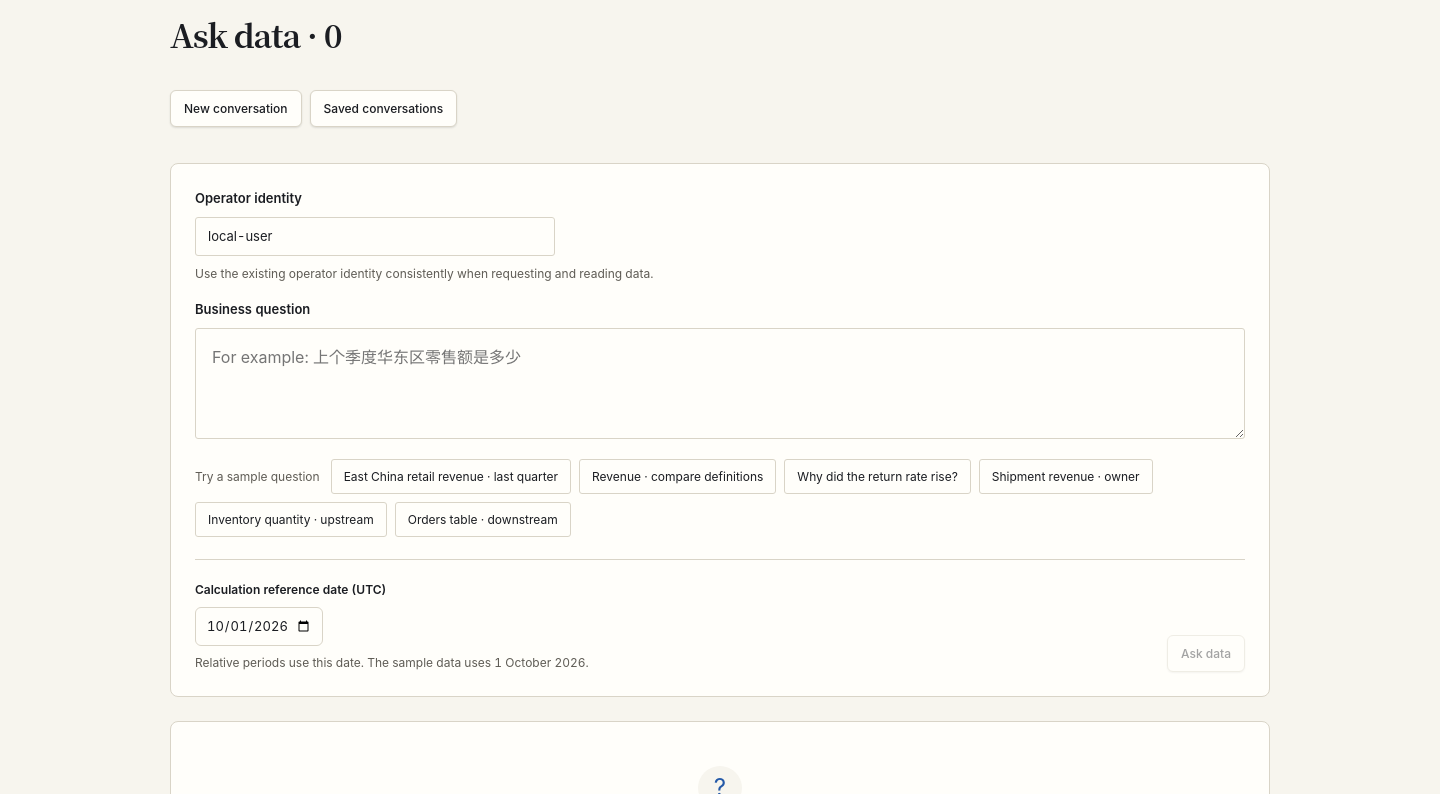
Test: retries the failed operation without silently switching to edited form values
Click the button "East China retail revenue · last quarter" at (451, 476), box [331,458,571,494]
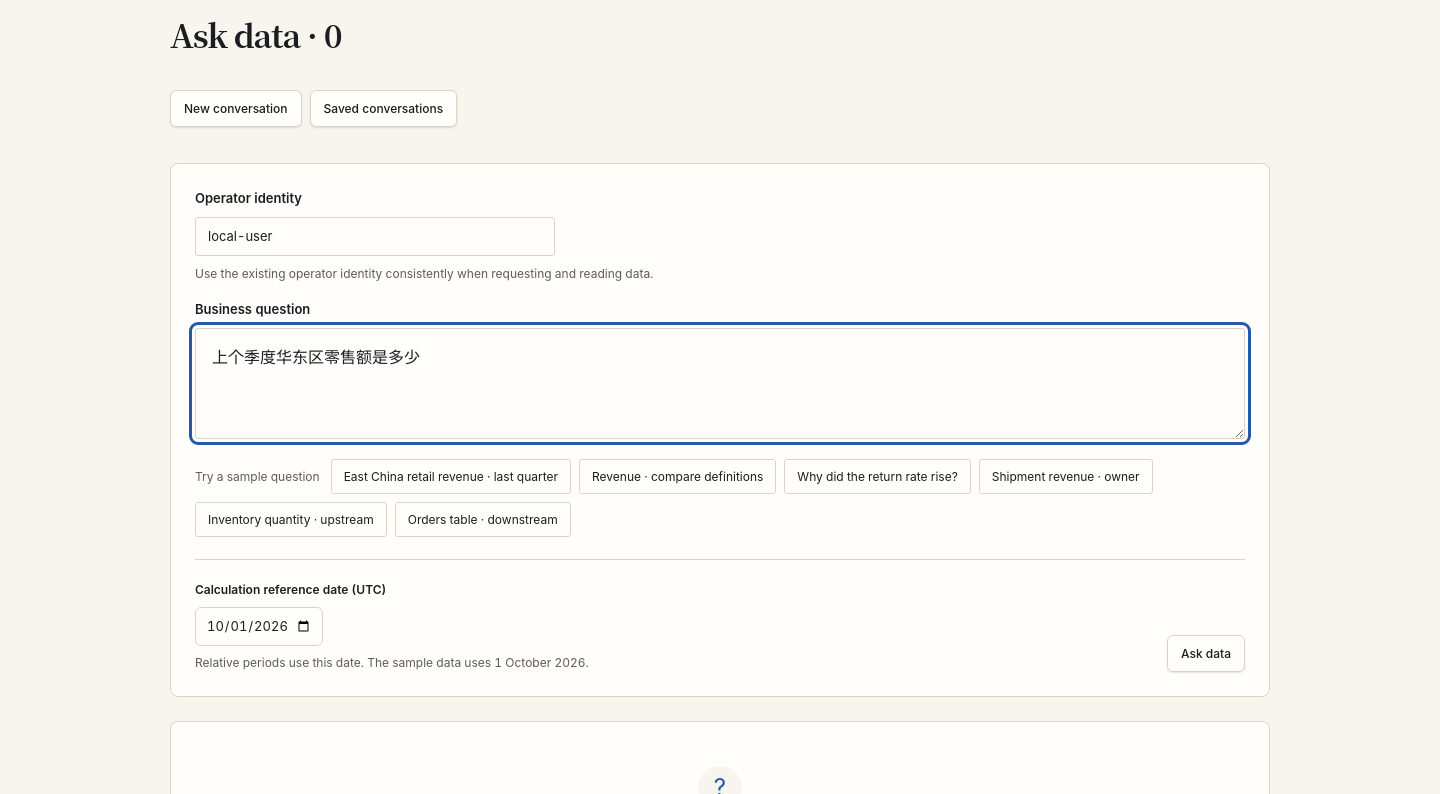
Click the button "Ask data" at (1206, 654), box [1167,635,1245,672]
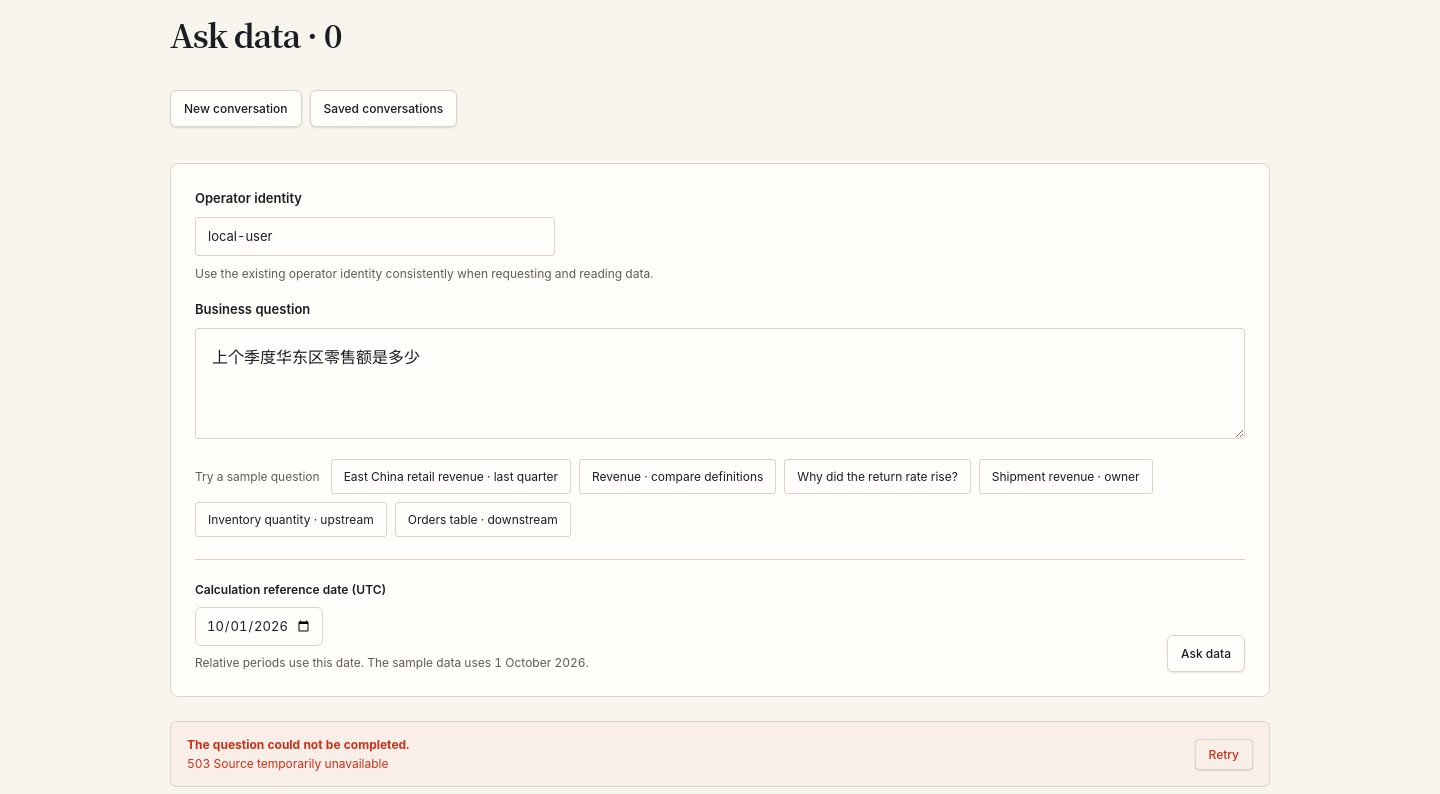
expect the message shows "503 Source temporarily unavailable": met, box [187,756,388,771]
Click the button "Why did the return rate rise?" at (878, 476), box [784,458,971,494]
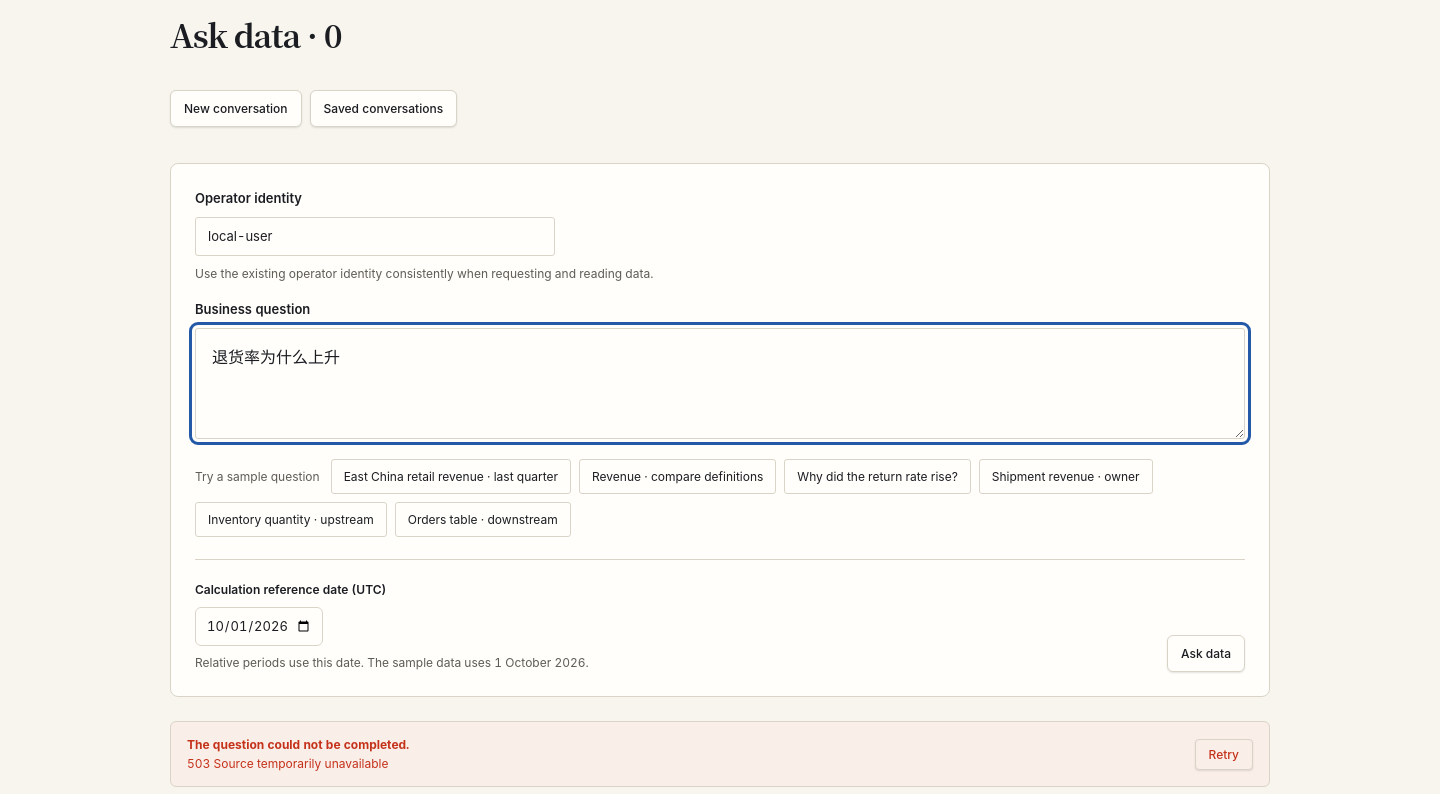
Click the button "Retry" at (1224, 754), box [1194,739,1253,770]
(page scrolled)
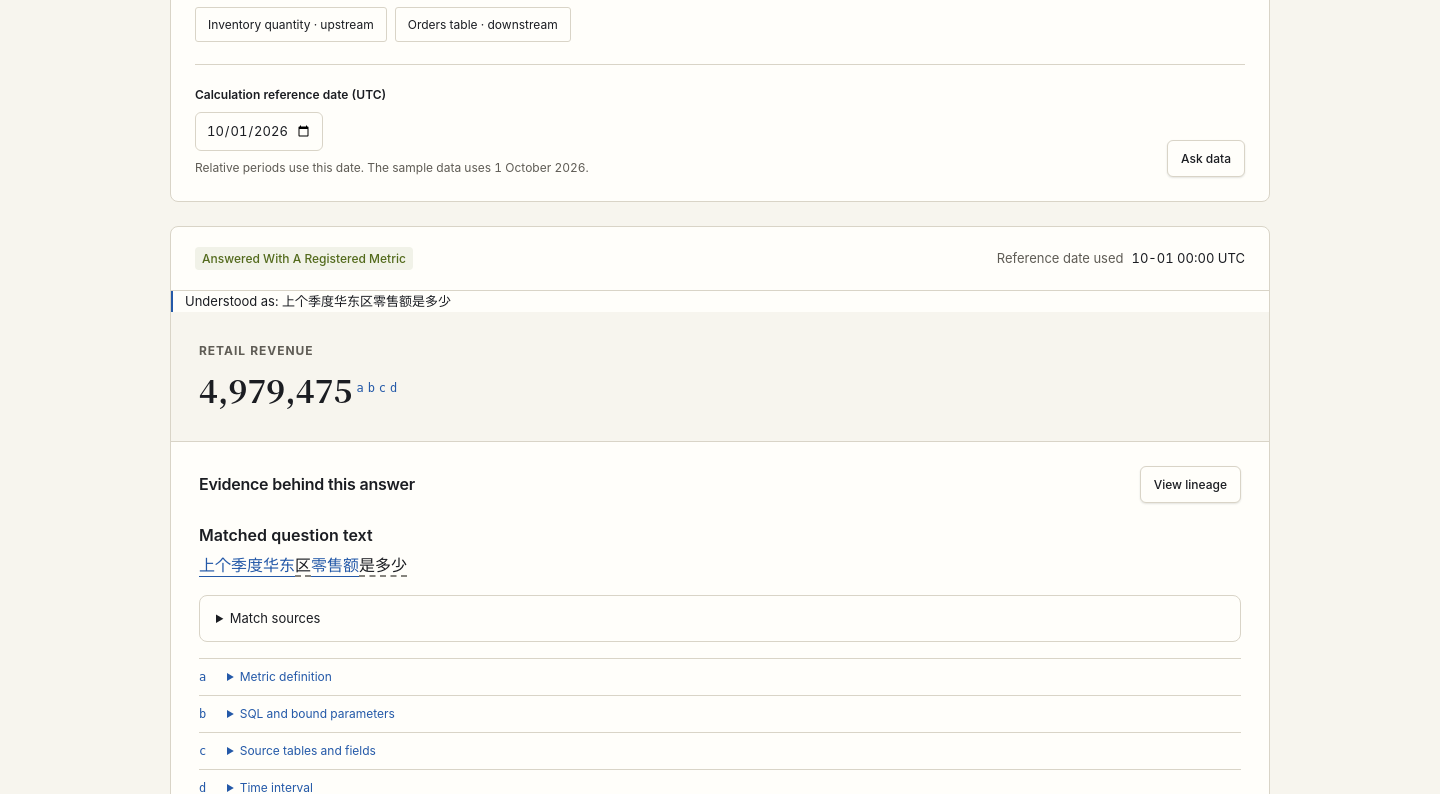
expect the text named "Calculated result" is shown: met, box [199,366,352,412]
